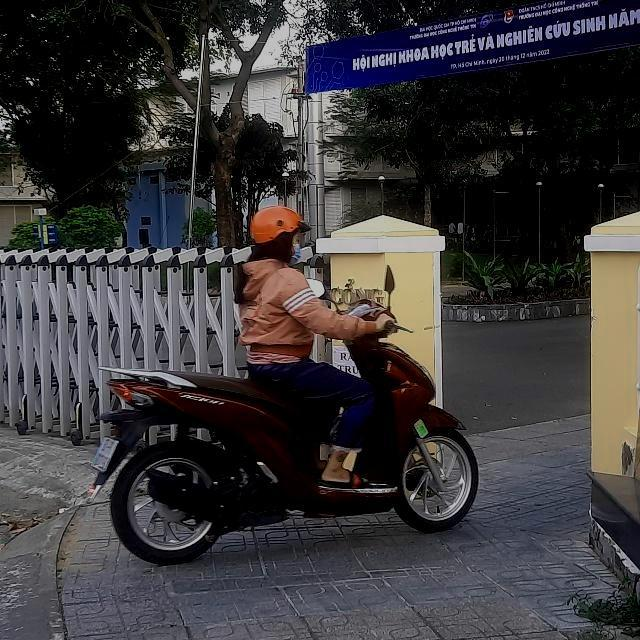Helmet: (246, 202, 306, 262)
